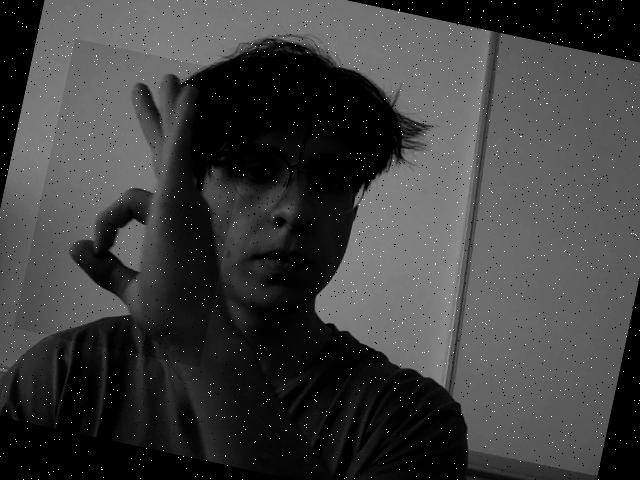OK: (13, 38, 260, 368)
